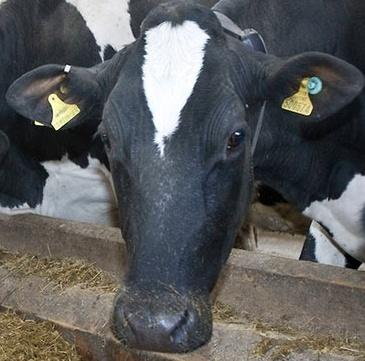muzzles: (105, 282, 215, 361)
